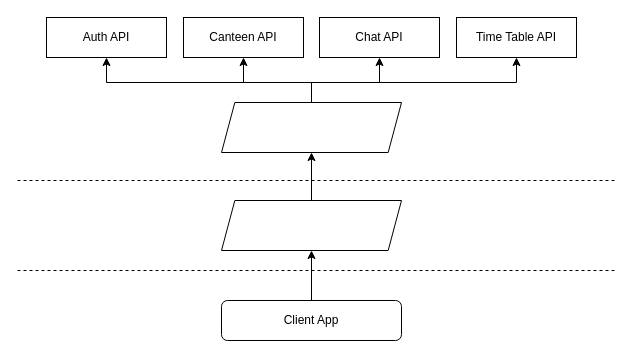
The diagram is 636 pixels wide and 358 high, and some of its shapes have lost their labels. The centre of each missing label's shape, as x and y in pixels:
Gateway (YARP): point (311, 127)
Traefik: point (311, 225)
